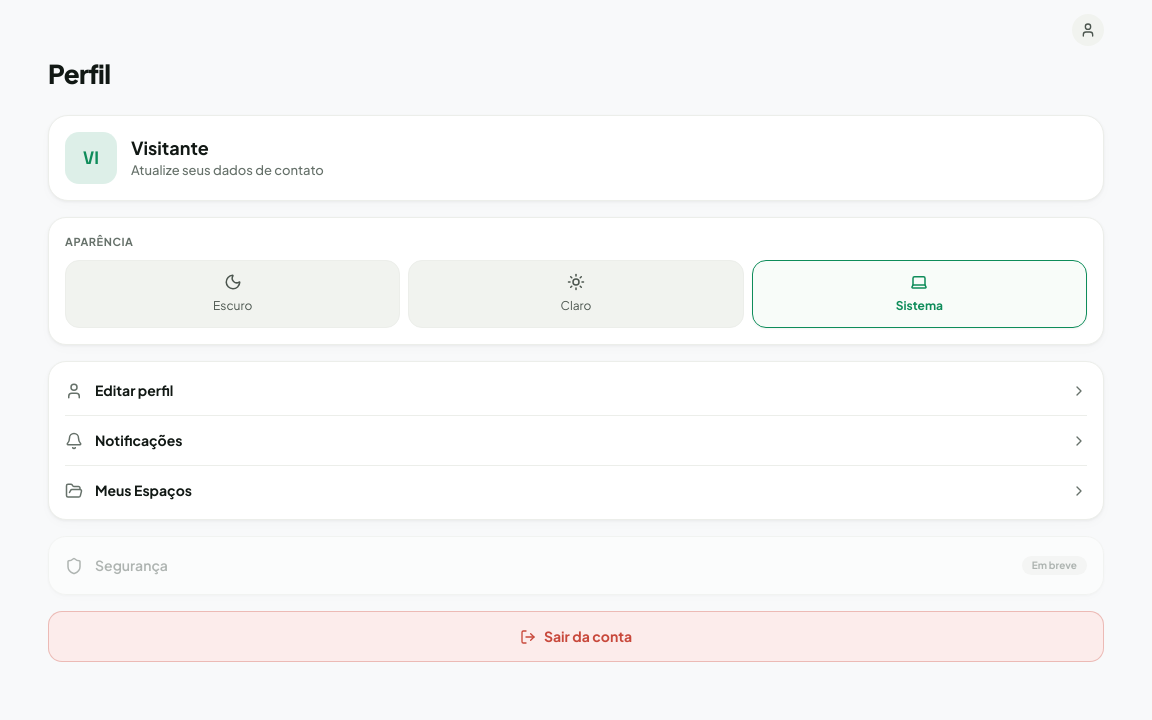
Test: ProfilePage › opens the NotificationsSheet with the live title
The image size is (1152, 720).
Click the button "Notificações" at (139, 440), box [65,416,1087,466]
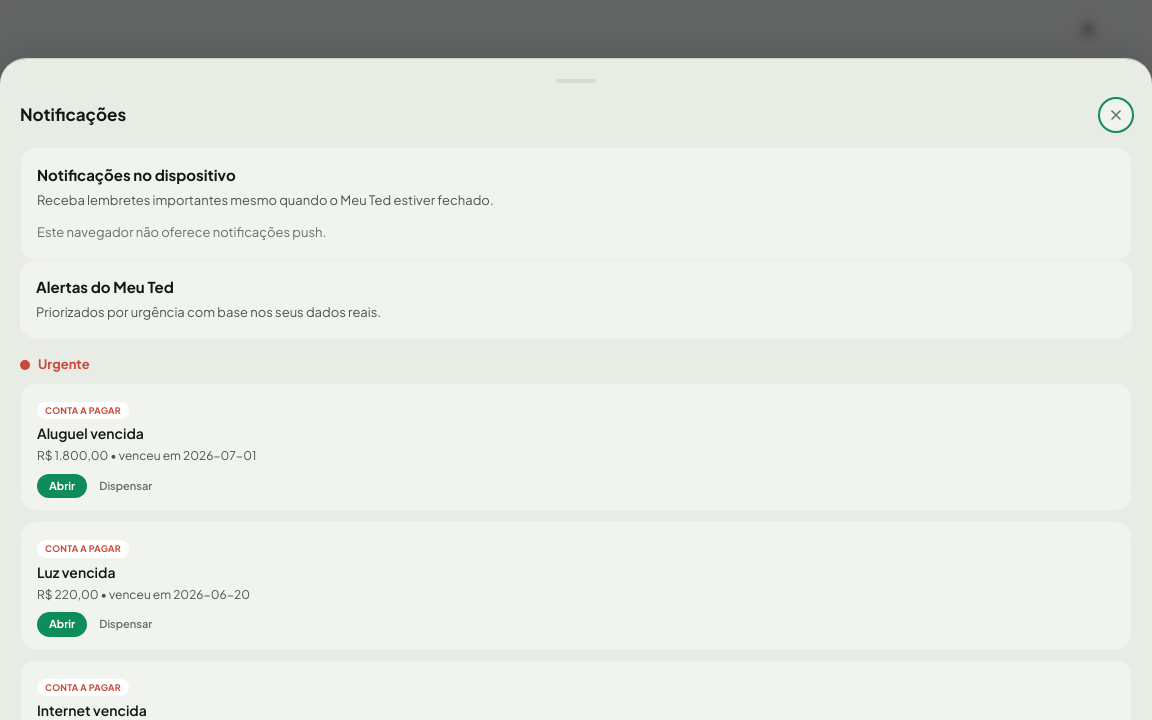
Expected: the dialog is shown
Expected: the text "Alertas do Meu Ted" is shown, [36,277,174,296]
